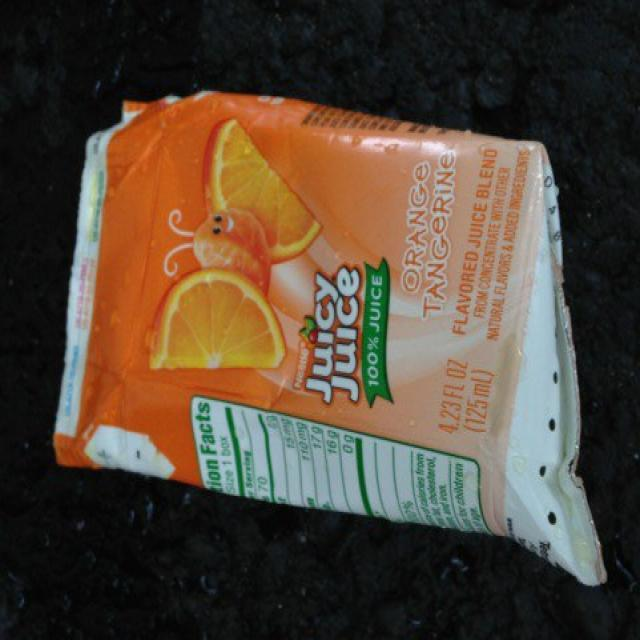non_white_jug: (59, 90, 588, 554)
